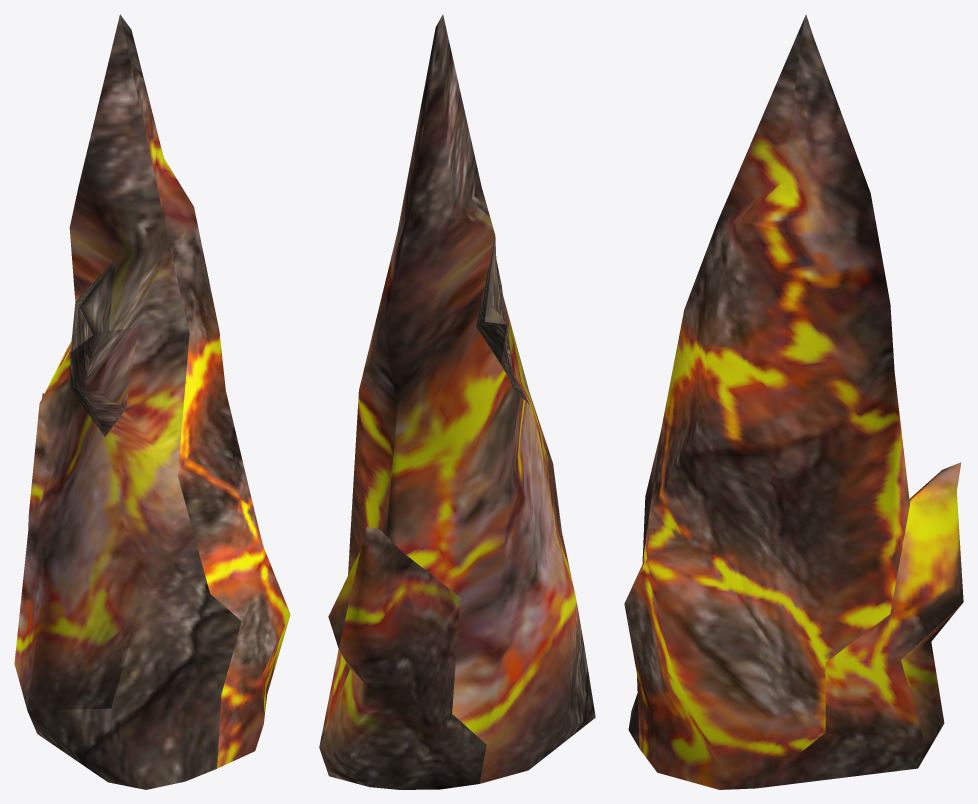
The model's file is shizhu_1.FBX.
The picture shows the model from 3 angles, left to right: view 1: azimuth 30°, elevation 25°; view 2: azimuth 150°, elevation 25°; view 3: azimuth 270°, elevation 25°; orthographic projection. The views are drawn at different scales.
Parts seen in each view (by area): view 1: Group11829_Group11829; view 2: Group11829_Group11829; view 3: Group11829_Group11829.
Boxes of the visible parts, x1,y1,x2,y2 form: Group11829_Group11829: (14,14,290,789); Group11829_Group11829: (319,14,595,789); Group11829_Group11829: (624,14,963,789).
Bounding box in the file's own units: 275 × 857 × 363.
